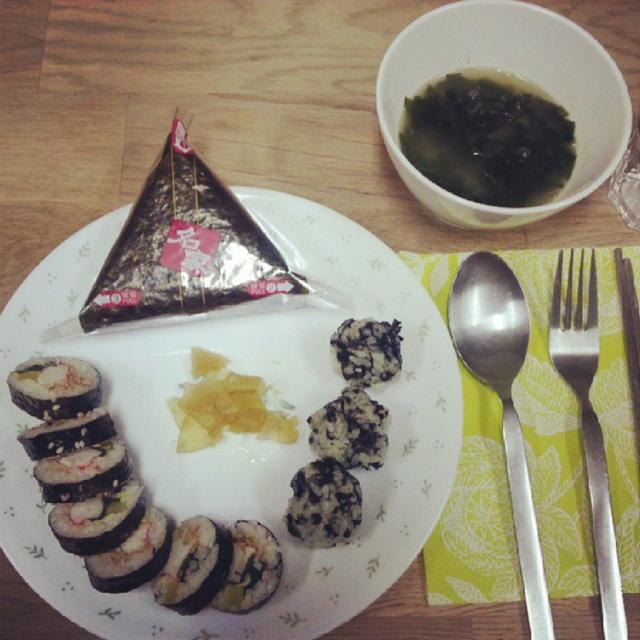non-organic waste: (8, 186, 459, 640), (352, 0, 632, 225)
